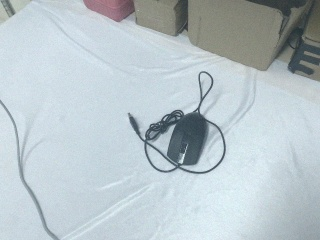box: (187, 1, 316, 72), (286, 2, 320, 85), (133, 1, 190, 37)
mouse: (166, 110, 209, 166)
